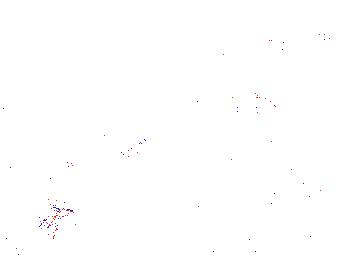glassfish: (39, 136, 149, 189)
red belly glassfish: (224, 96, 278, 117), (205, 6, 221, 24)
redtail glassfish: (267, 30, 337, 56)
